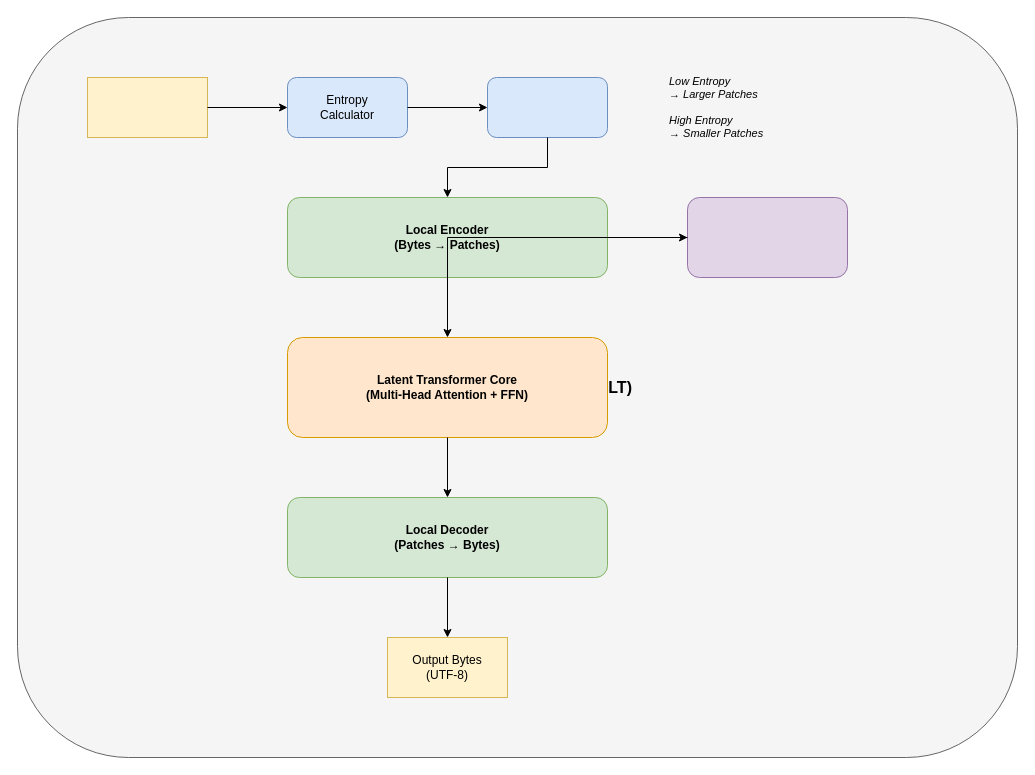
The diagram is 1035 pixels wide and 775 high, and some of its shapes have lost their labels. Each missing label, with the box of its shape:
Dynamic Patcher: (486, 76, 608, 138)
Input Bytes (UTF-8): (86, 76, 208, 138)
Patch Embeddings + Positional Encoding: (686, 196, 848, 278)
